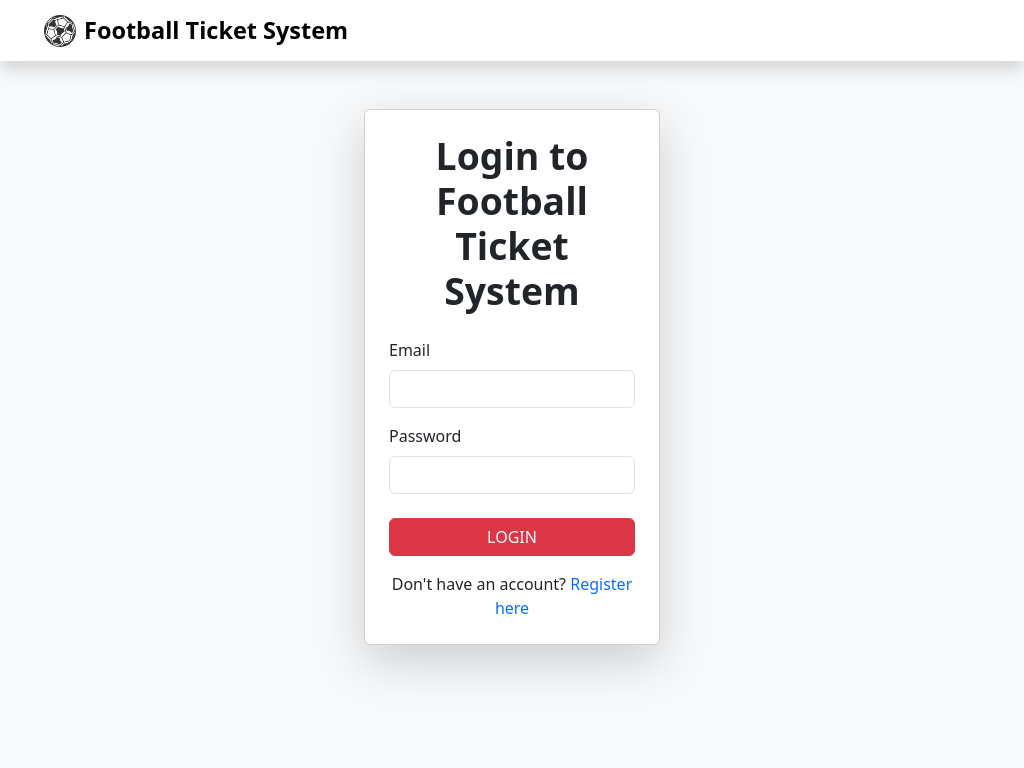
Test: Login Flow › should show error message for invalid credentials
This screenshot has width=1024, height=768.
Type "wrong@example.com" into the field with id "email".
click(512, 389); type("wrong@example.com")  # box x1=389 y1=370 x2=635 y2=408
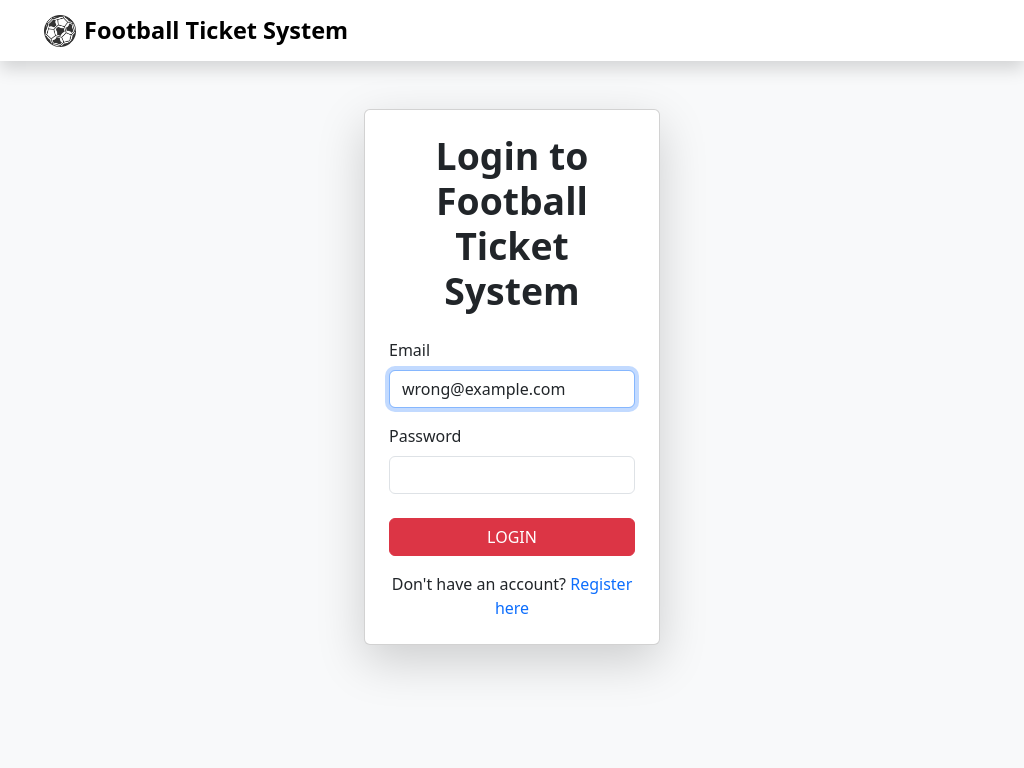
Type "wrongpassword" into the password field labelled "Password".
click(512, 475); type("wrongpassword")  # box x1=389 y1=456 x2=635 y2=494
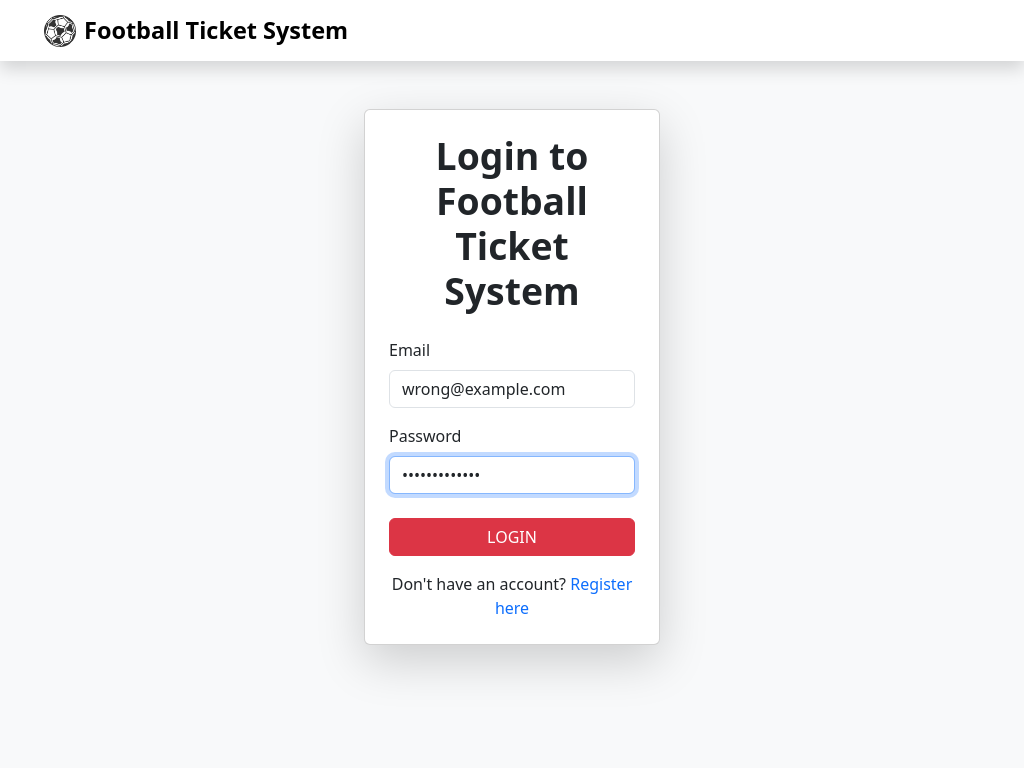
Click the submit button.
click(512, 537)  # box x1=389 y1=518 x2=635 y2=556
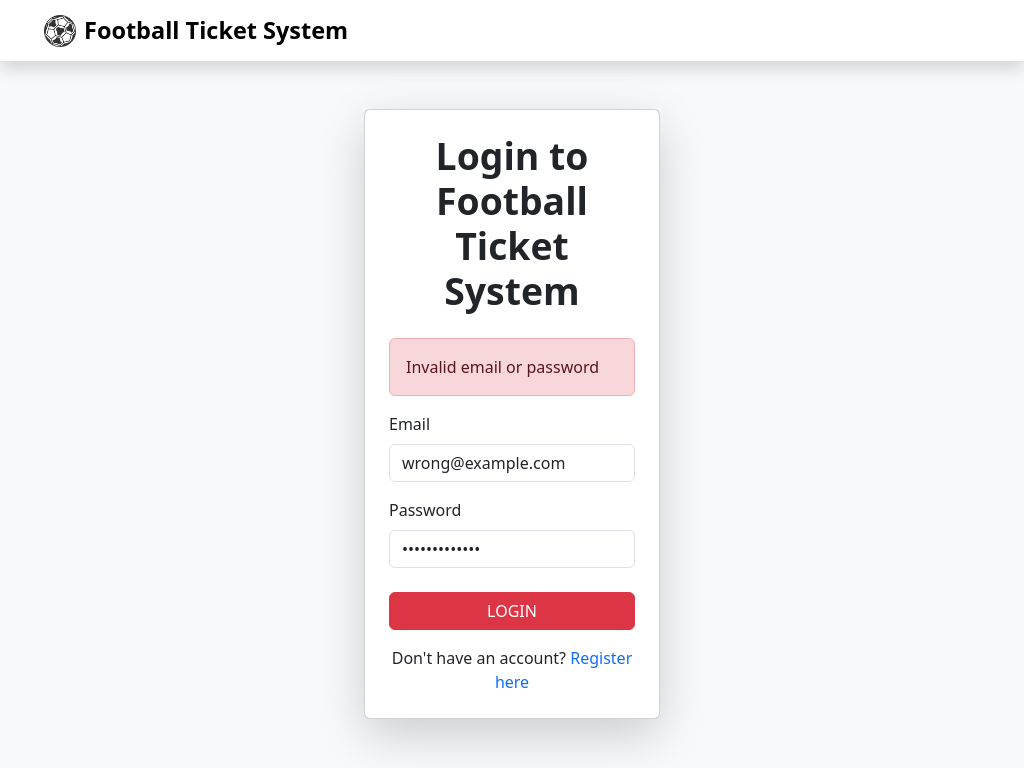
expect the message "Invalid email or password" is shown: met, box x1=389 y1=338 x2=635 y2=396
expect the message with class "alert-danger" reads "Invalid email or password": met, box x1=406 y1=356 x2=599 y2=378
